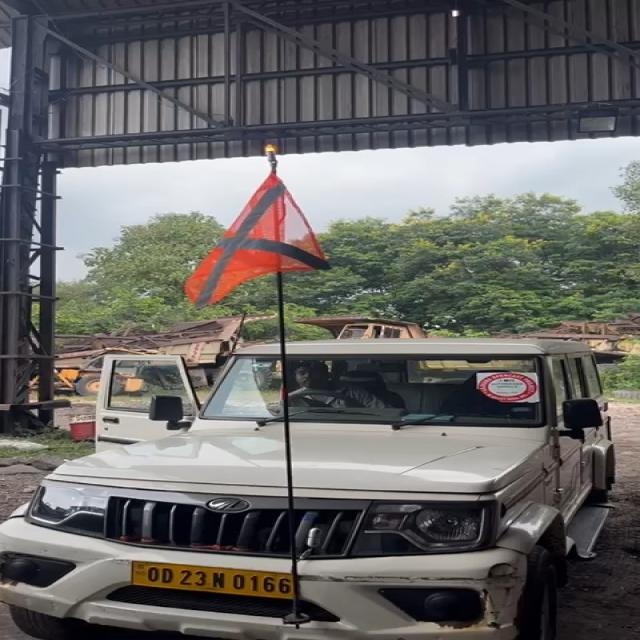light_vehicle: (37, 336, 630, 640)
